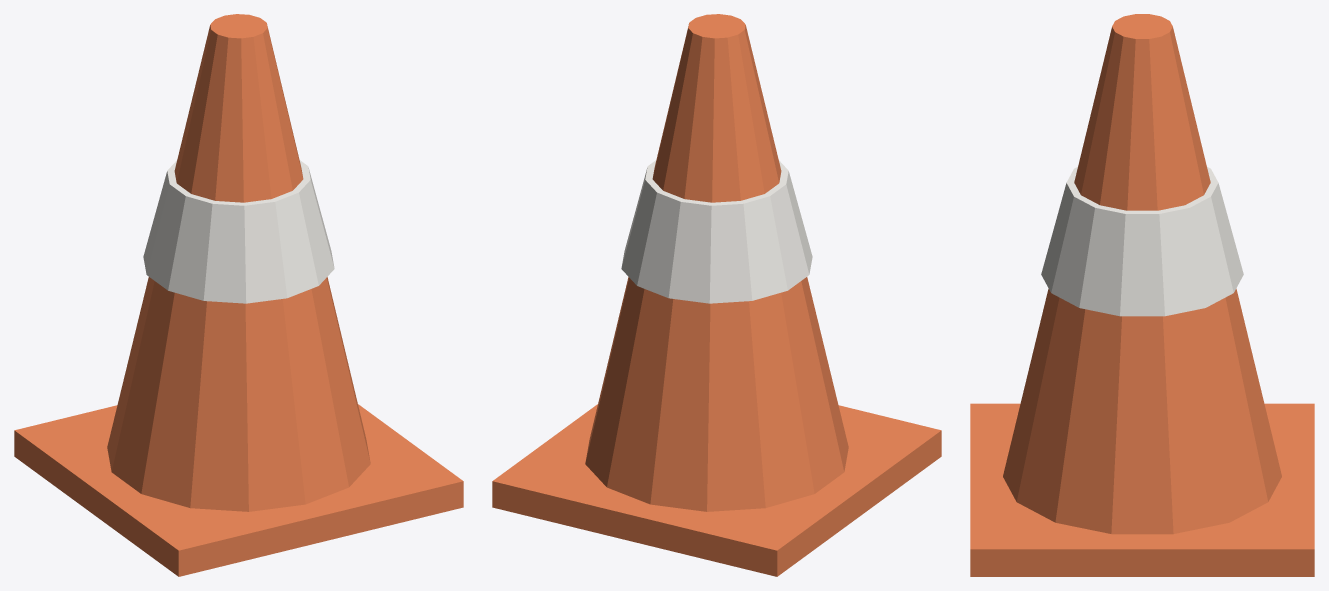
File: prop.cone.glb
3 views of the same model, side by side, from view 1: azimuth 30°, elevation 25°; view 2: azimuth 150°, elevation 25°; view 3: azimuth 270°, elevation 25° (orthographic). The views are drawn at different scales.
Visible parts, largest first — view 1: prop.cone; view 2: prop.cone; view 3: prop.cone.
Part boxes in pixels (x1,y1,x2,y2): prop.cone: (14, 14, 463, 576); prop.cone: (492, 14, 941, 576); prop.cone: (970, 14, 1314, 576).
Bounding box in the file's own units: 0.34 × 0.52 × 0.34.
